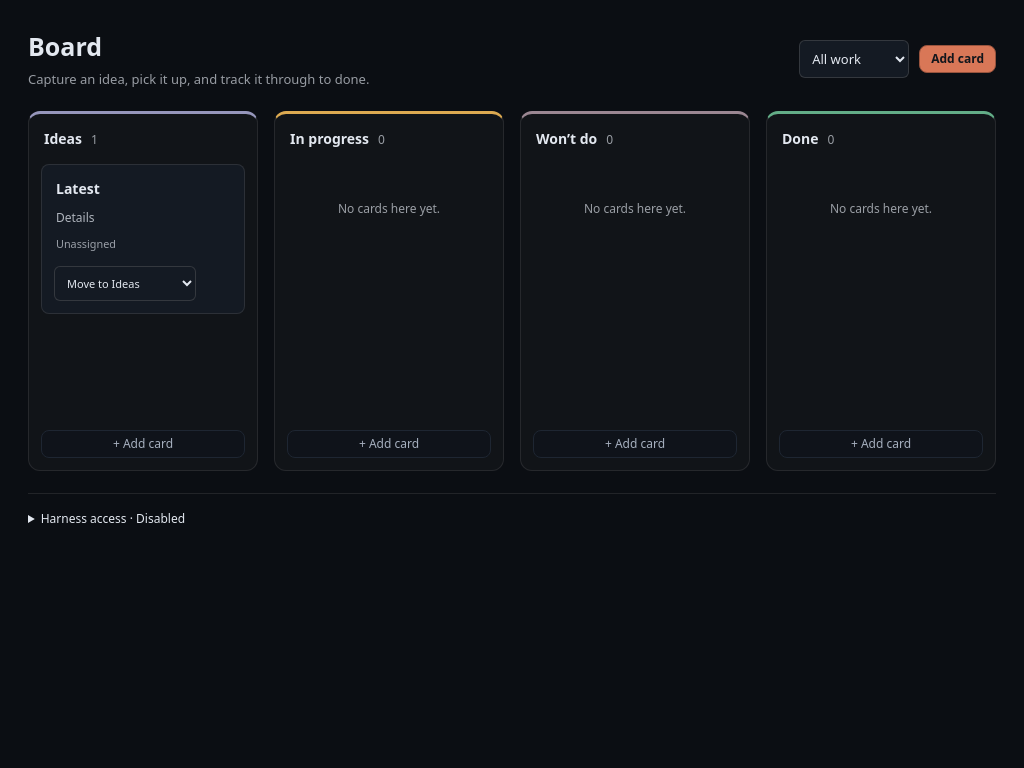
Scenario: ignores old initial snapshots and retains a failed edit
Click the button "Latest Details Unassigned". click: (143, 216)
box: [42,165,244,266]
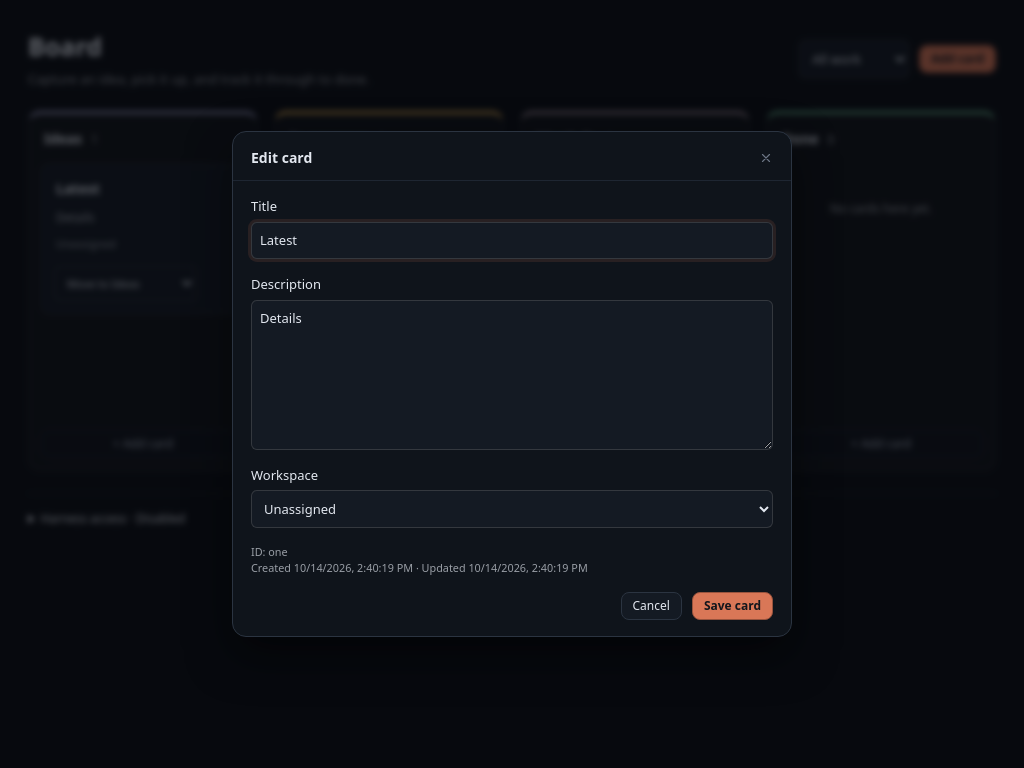
Click the button "Save card". click: (732, 606)
box: [692,592,773,620]
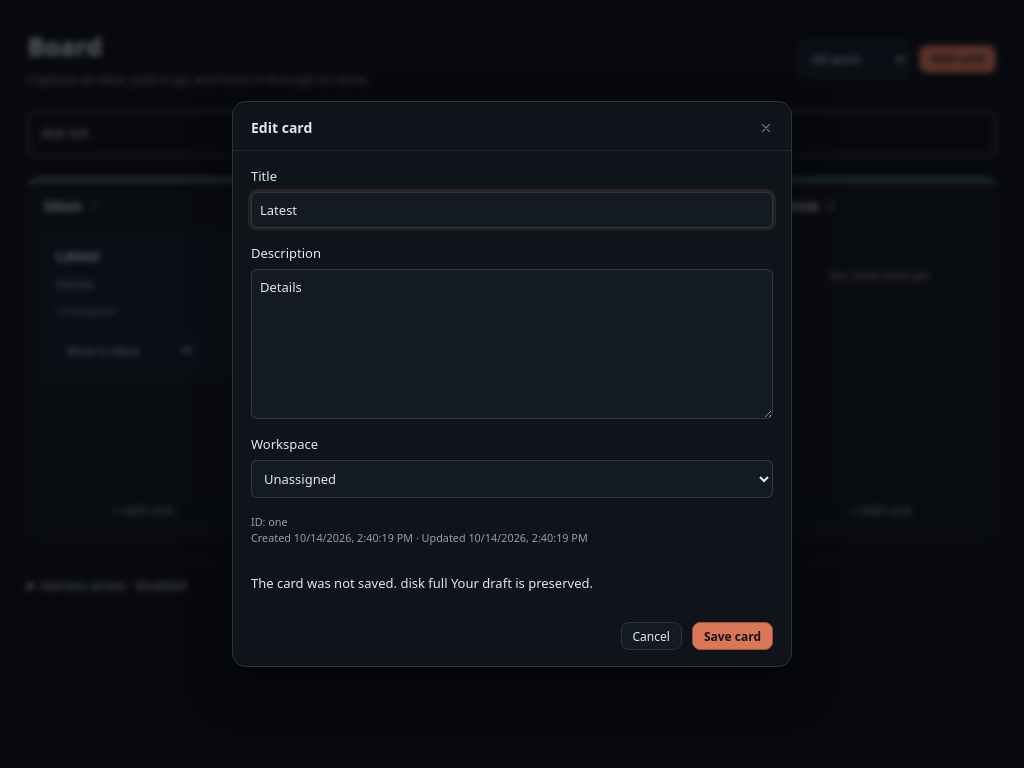
Now the dialog is shown, box [232,101,792,667]
Now the text "The card was not saved. disk full Your draft is preserved." is shown, box [251,574,593,592]
